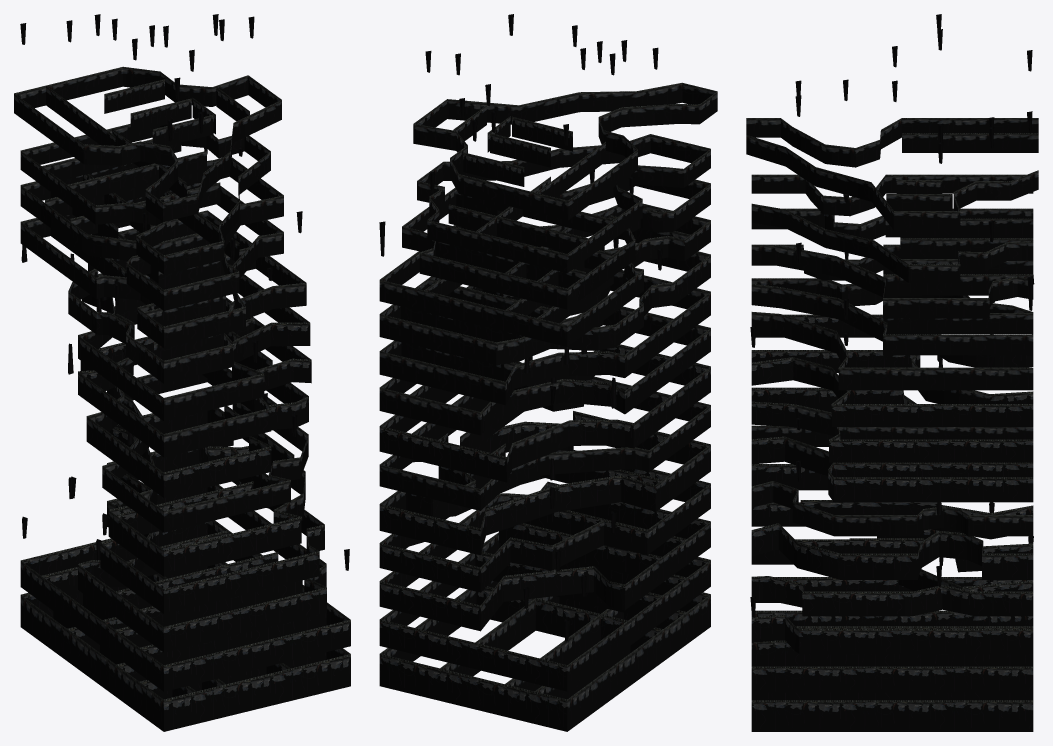
Rendered from otrepy.FBX.
The picture shows the model from 3 angles, left to right: view 1: azimuth 30°, elevation 25°; view 2: azimuth 150°, elevation 25°; view 3: azimuth 270°, elevation 25°; orthographic projection. The views are drawn at different scales.
Parts seen in each view (by area): view 1: otrepy; view 2: otrepy; view 3: otrepy.
Boxes of the visible parts, left/top/right/bottom form: otrepy: left=14, top=14, right=350, bottom=731; otrepy: left=379, top=14, right=717, bottom=731; otrepy: left=746, top=14, right=1038, bottom=731.
Size of the model in its own units: 3168 by 9976 by 4207.
